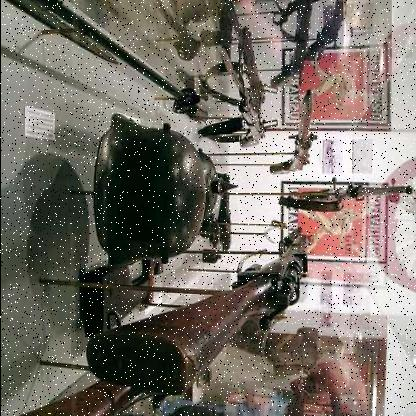rifle: (68, 220, 321, 401)
